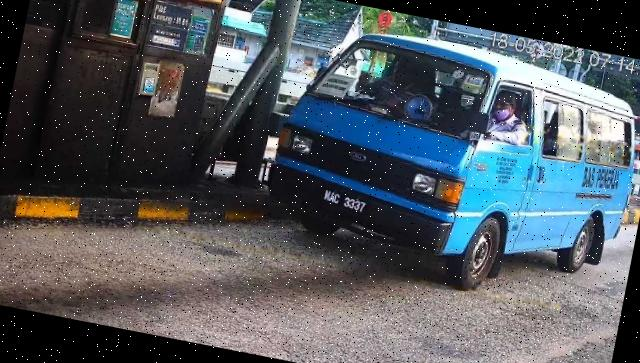License_Plate: (320, 186, 371, 220)
van: (255, 13, 640, 316)
